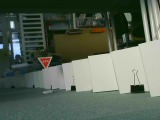stop: (37, 56, 53, 70)
